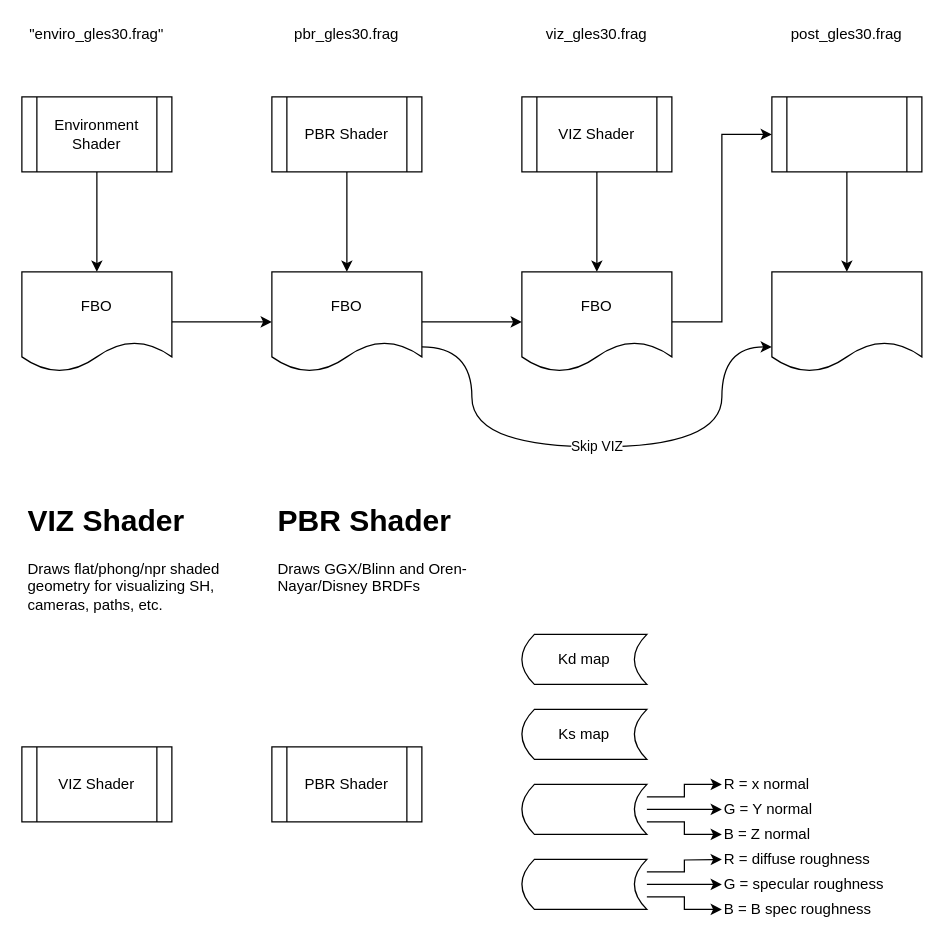
The diagram is 944 pixels wide and 943 high, and some of its shapes have lost their labels. The box of each missing label's shape, as (x1, y1, x2, y2) in pixels:
Km map: (521, 858, 647, 909)
Kn map: (521, 783, 647, 834)
Post Process Shader: (771, 96, 922, 172)
Screen or File: (771, 271, 922, 372)
